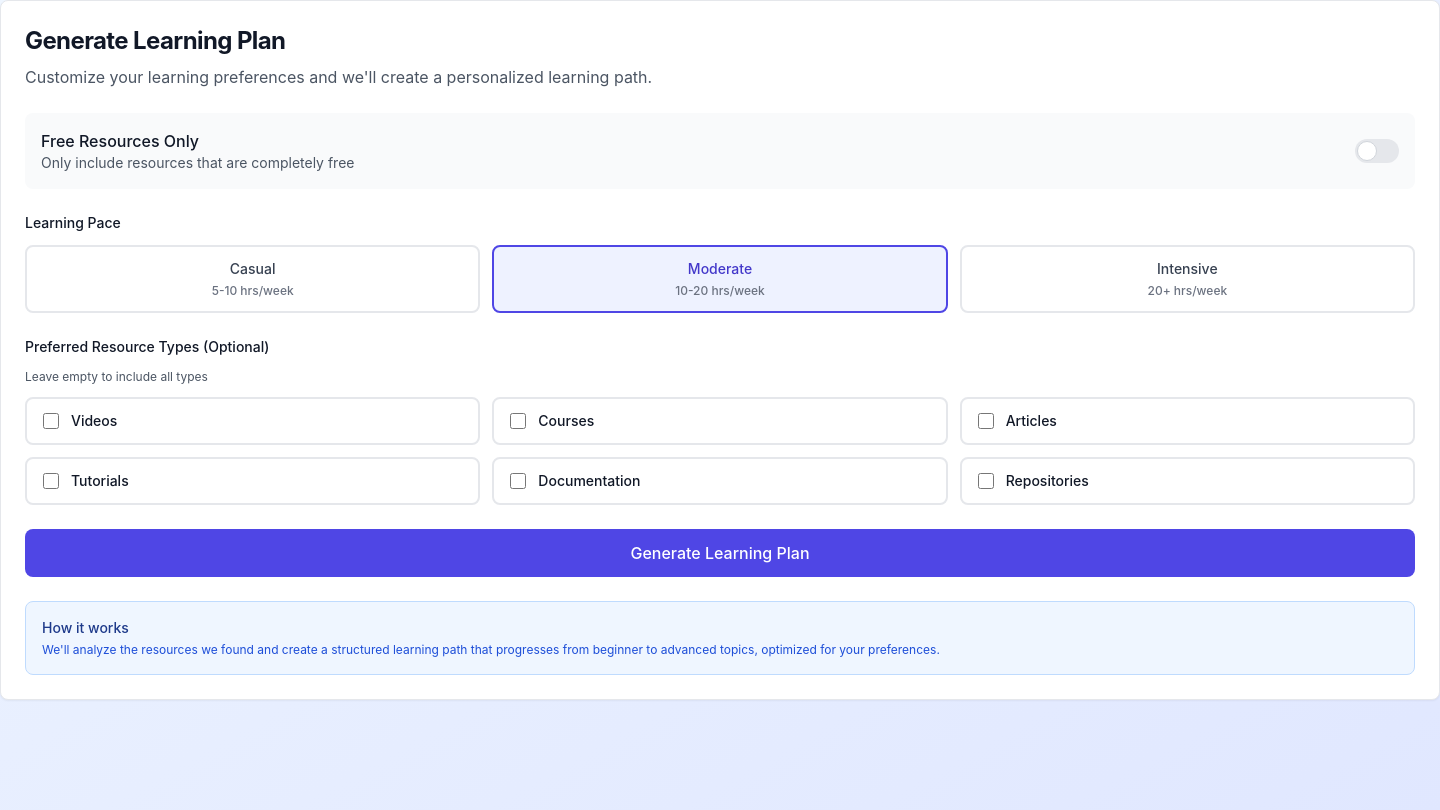
Test: PlanGenerator › shows error message on failure
The width and height of the screenshot is (1440, 810).
Click the button "Generate Learning Plan". click: (720, 553)
box: [25, 529, 1415, 577]
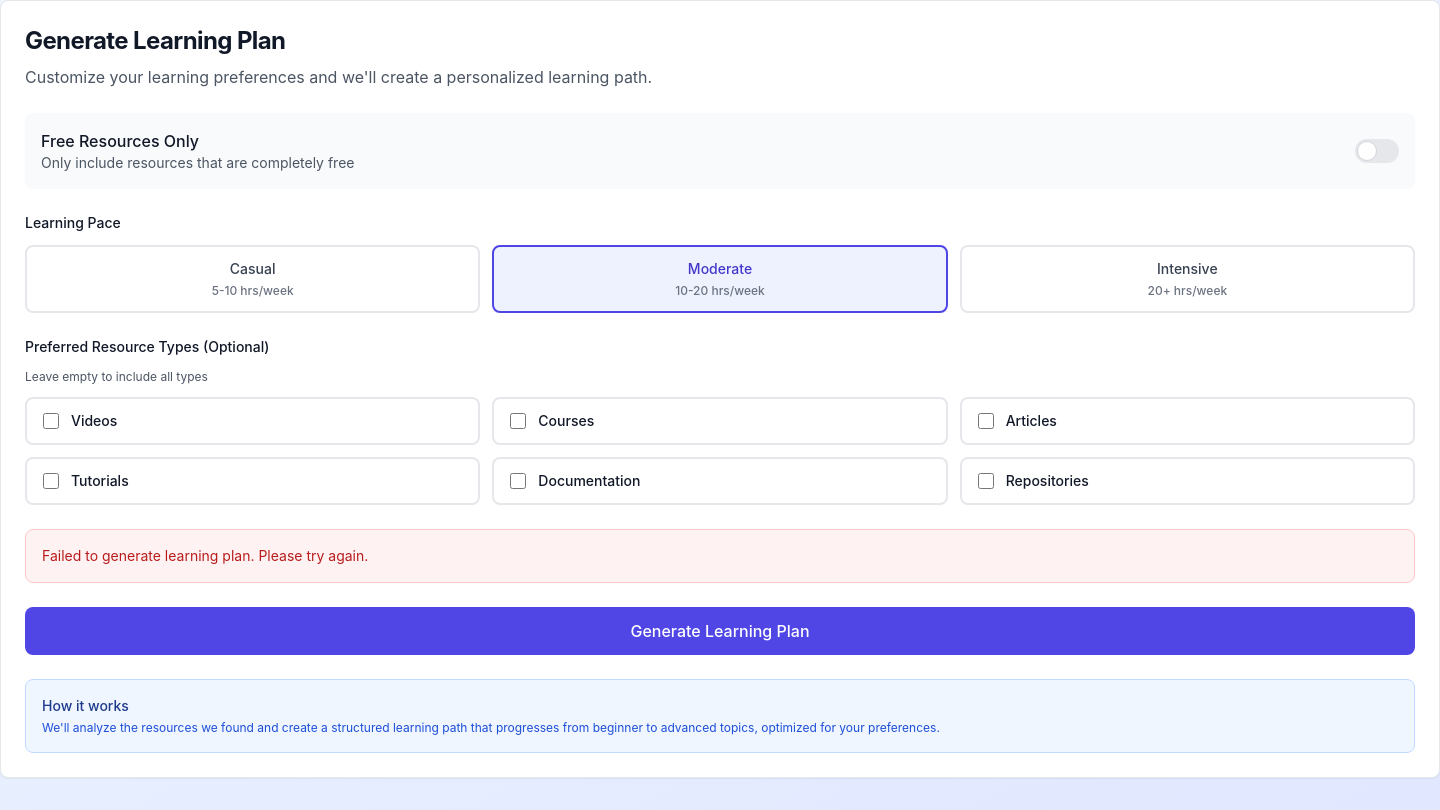
Result: the text "Failed to generate learning plan. Please try again." is shown at [42, 547, 368, 564]
